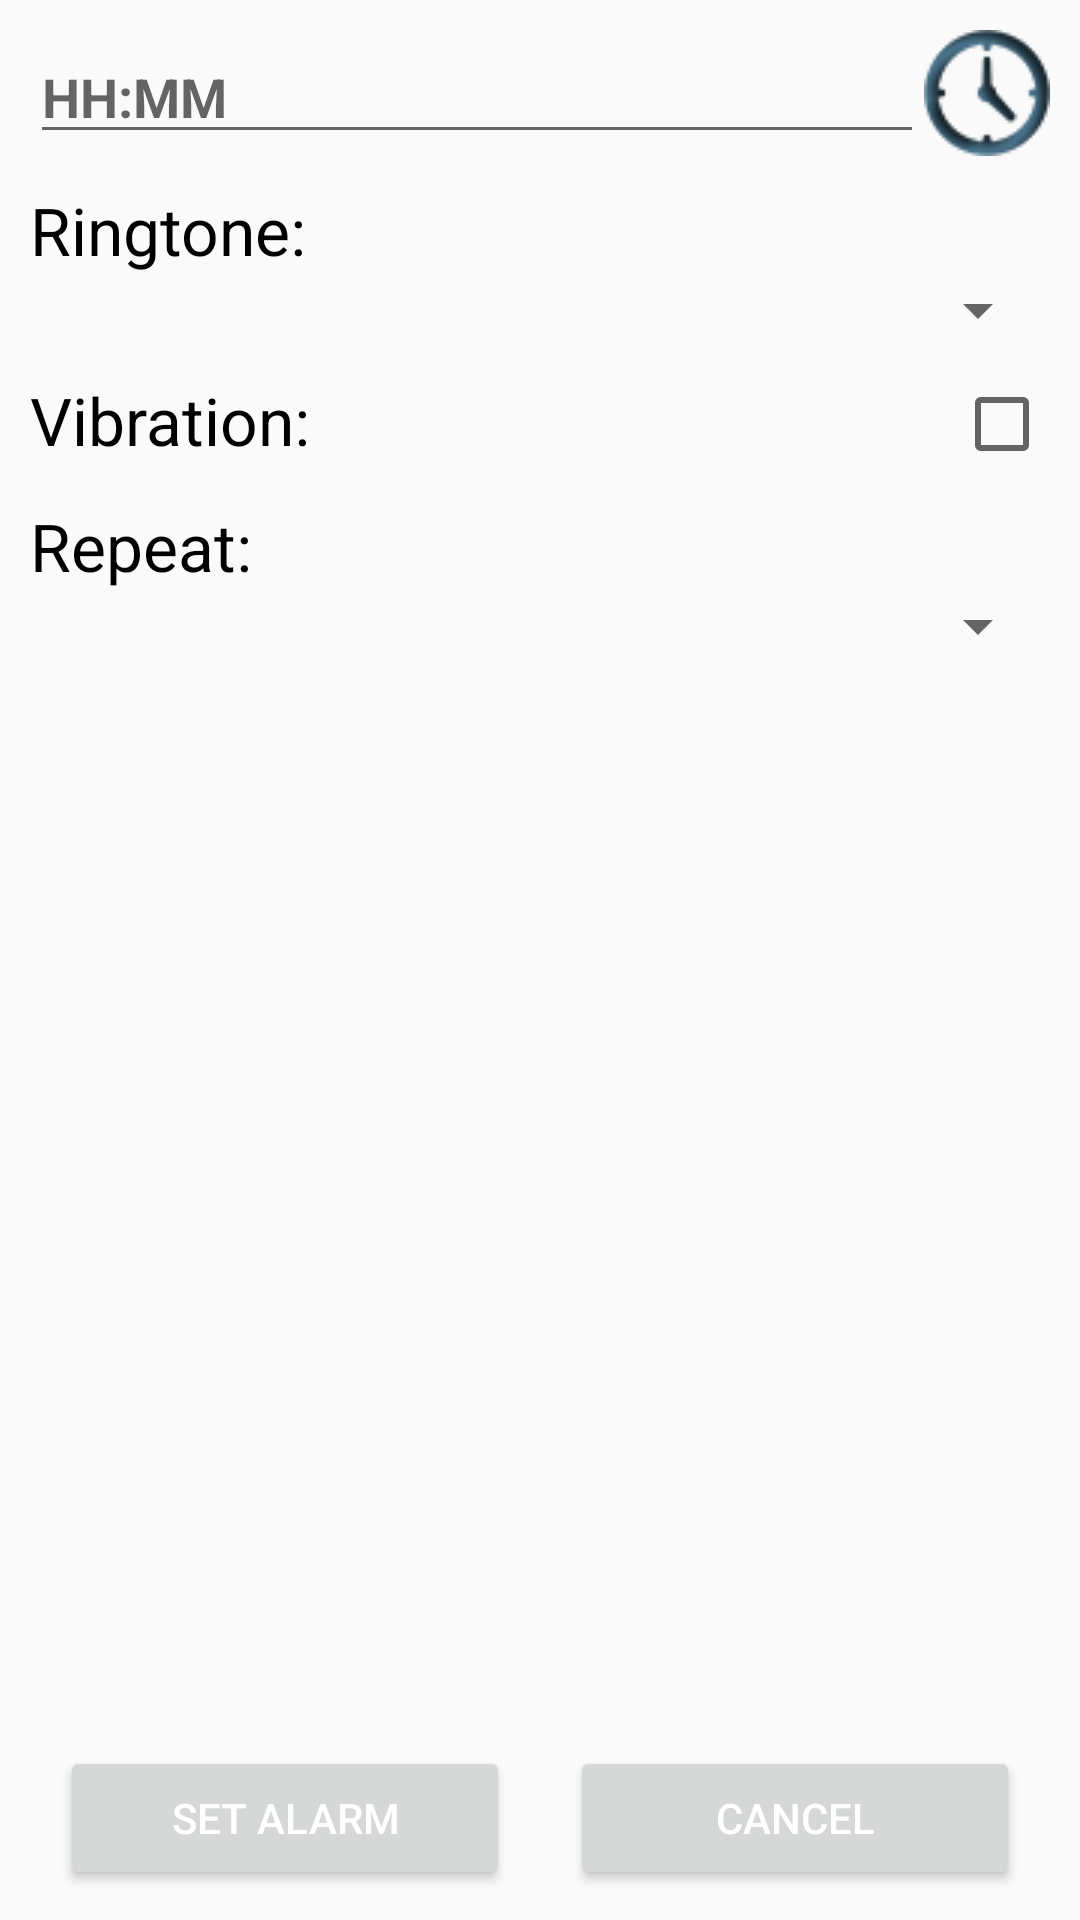

Icon click points for this 1080 x 1920 phone screenshot, format (x,y):
clock: (987,93)
